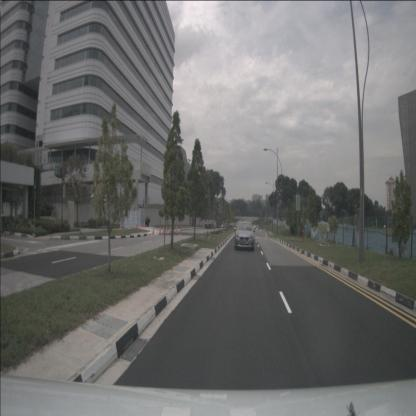movable_object-trafficcone: (158, 224, 162, 234), (142, 220, 146, 228), (168, 226, 172, 233), (165, 226, 168, 235), (152, 226, 155, 235), (119, 221, 122, 229), (175, 225, 178, 232), (163, 225, 165, 234), (136, 222, 138, 229)
vehicle-car: (234, 221, 255, 250), (210, 220, 217, 229), (205, 219, 212, 228)
vehicle-motorcycle: (145, 215, 150, 227)
